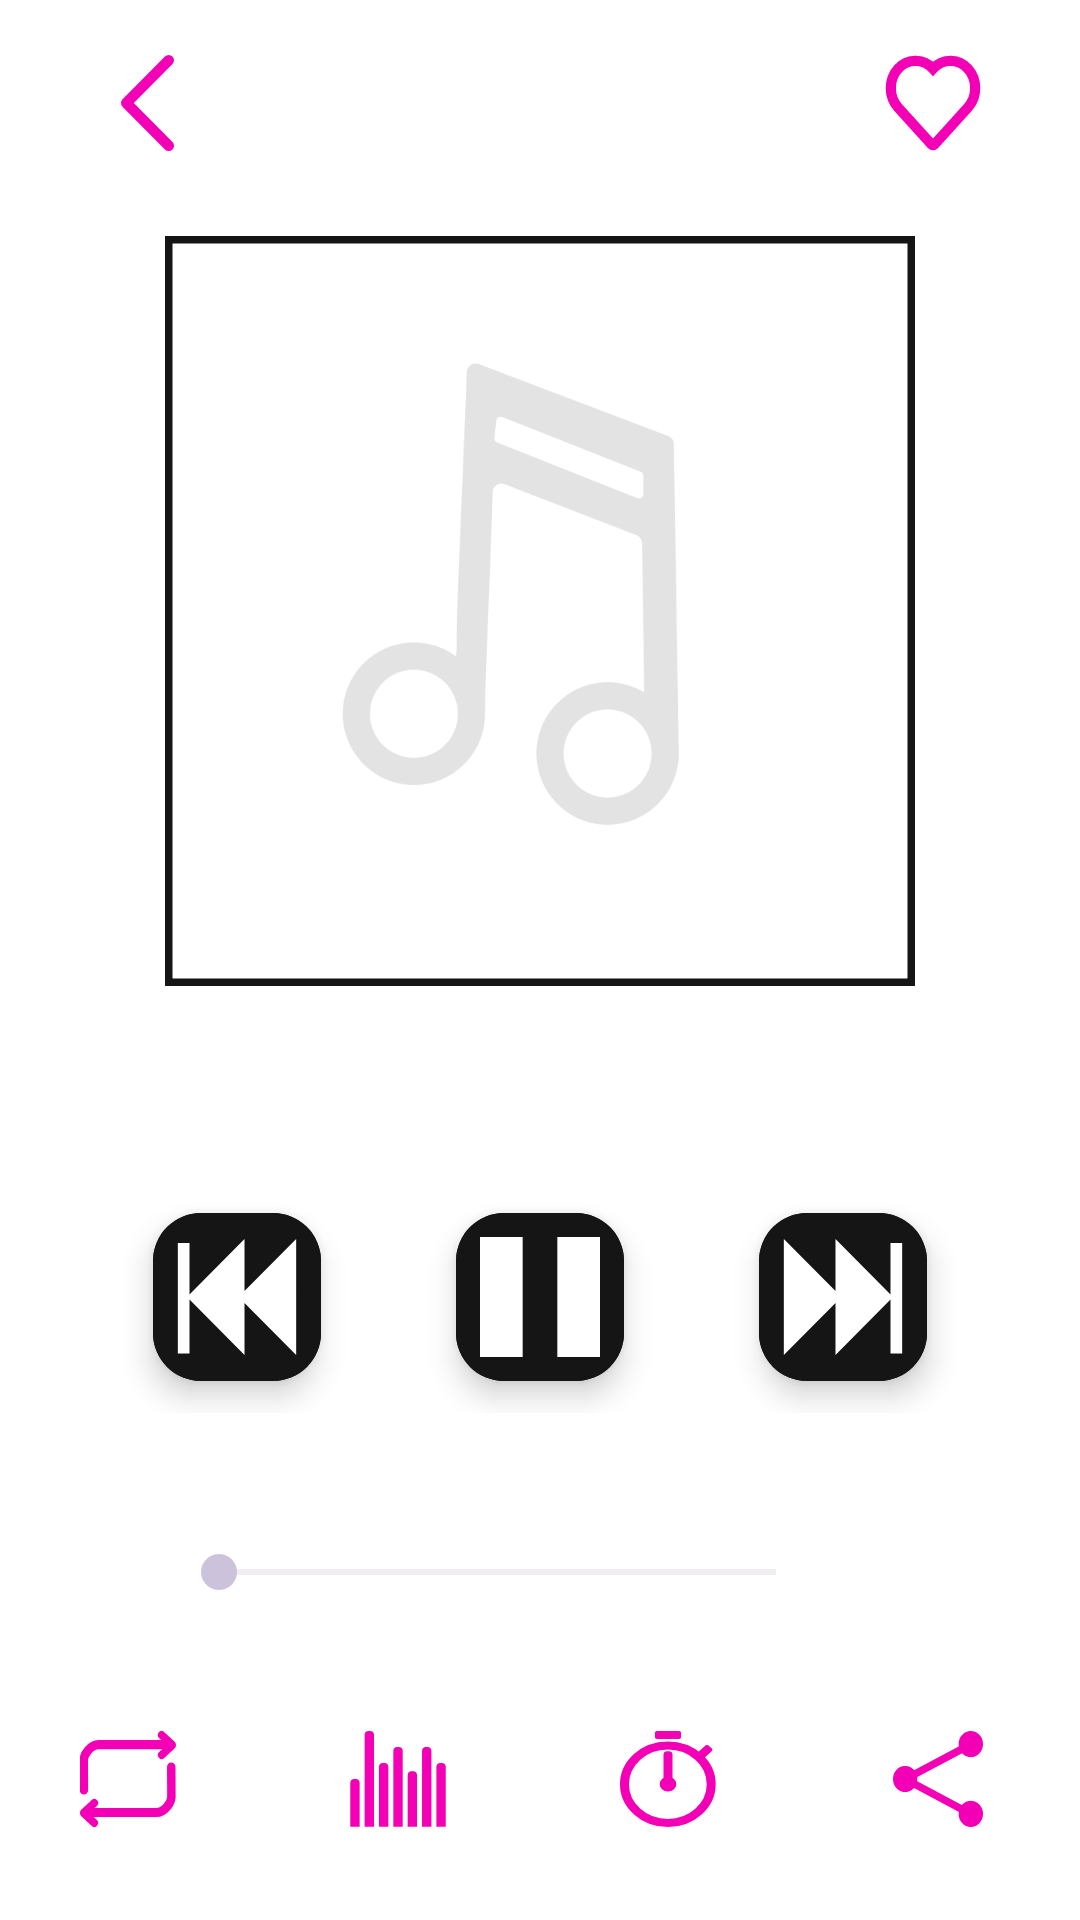

Icon click points for this 1080px x 1920px phone screenshot, format [x,y]:
Back: [147,103]
Equalizer: [398,1779]
Next: [843,1297]
Pause: [540,1297]
Previous: [237,1297]
Repeat: [128,1779]
Share: [938,1779]
Timer: [668,1779]
